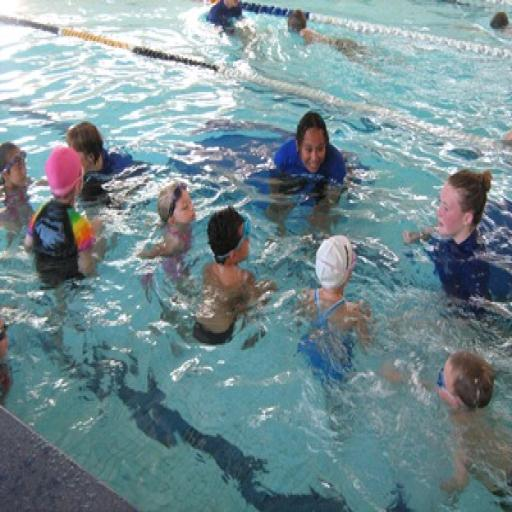swimming: (402, 166, 511, 318), (290, 232, 376, 391), (187, 203, 276, 352), (22, 144, 109, 288), (264, 107, 350, 234), (0, 295, 15, 409)
